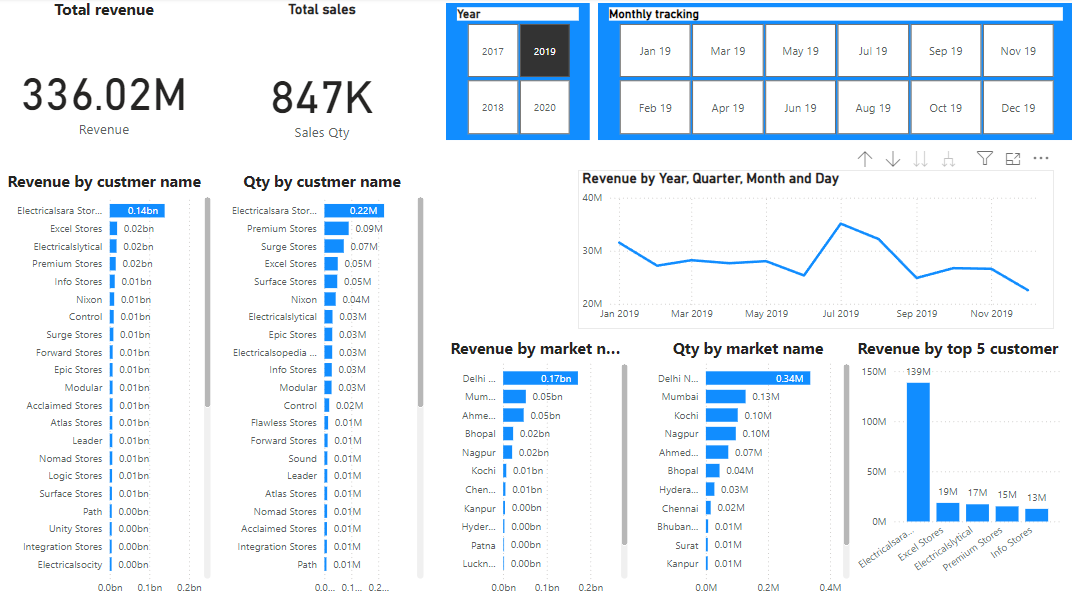

The dashboard page shown, as its layout file describes it:
{"tool":"powerbi","page":{"name":"Page 1","canvas":[1280,720],"ordinal":0},"visuals":[{"type":"card","title":"Total revenue","fields":{"Values":["BaseMeasure.Revenue"]},"box":[0,0,252.2,215.3],"z":0},{"type":"card","title":"Total sales","fields":{"Values":["BaseMeasure.Sales Qty"]},"box":[259.3,3.6,252.2,215.3],"z":1000},{"type":"barChart","title":"Revenue by custmer name","fields":{"Category":["sales customers.custmer_name"],"Y":["BaseMeasure.Revenue"]},"box":[5.9,204.6,252.2,515.1],"z":2000},{"type":"barChart","title":"Qty by custmer name","fields":{"Category":["sales customers.custmer_name"],"Y":["BaseMeasure.Sales Qty"]},"box":[259.3,204.6,252.2,515.1],"z":3000},{"type":"barChart","title":"Revenue by market name","fields":{"Category":["sales markets.markets_name"],"Y":["BaseMeasure.Revenue"]},"box":[532.9,403.3,221.3,316.4],"z":6000},{"type":"barChart","title":"Qty by market name","fields":{"Category":["sales markets.markets_name"],"Y":["BaseMeasure.Sales Qty"]},"box":[766.1,403.3,252.2,316.4],"z":7000},{"type":"columnChart","title":"Revenue by top 5 customer","fields":{"Category":["sales customers.custmer_name"],"Y":["BaseMeasure.Revenue"]},"box":[1017.1,403.3,252.2,316.4],"z":8000},{"type":"slicer","fields":{"Values":["sales date.year"]},"box":[532.9,5.9,171.3,163],"z":8001},{"type":"slicer","fields":{"Values":["sales date.cy_date"]},"box":[713.8,5.9,566.2,163],"z":8002},{"type":"lineChart","fields":{"Y":["BaseMeasure.Revenue"],"Category":["sales date.cy_date.Variation.Date Hierarchy.Year","sales date.cy_date.Variation.Date Hierarchy.Quarter","sales date.cy_date.Variation.Date Hierarchy.Month","sales date.cy_date.Variation.Date Hierarchy.Day"]},"box":[690,204.6,566.2,189.1],"z":8003}]}

Visuals, with their boxes in screenshot pixels (x1, y1, x2, y2), scaled from the page's 1280x720 canvas onto the 1072x598 screenshot:
"Total revenue" card: <region>0, 0, 211, 179</region>
"Total sales" card: <region>217, 3, 428, 182</region>
"Revenue by custmer name" barChart: <region>5, 170, 216, 597</region>
"Qty by custmer name" barChart: <region>217, 170, 428, 597</region>
"Revenue by market name" barChart: <region>446, 335, 632, 597</region>
"Qty by market name" barChart: <region>642, 335, 853, 597</region>
"Revenue by top 5 customer" columnChart: <region>852, 335, 1063, 597</region>
slicer - sales date.year: <region>446, 5, 590, 140</region>
slicer - sales date.cy_date: <region>598, 5, 1071, 140</region>
lineChart - BaseMeasure.Revenue x sales date.cy_date.Variation.Date Hierarchy.Year: <region>578, 170, 1052, 327</region>
